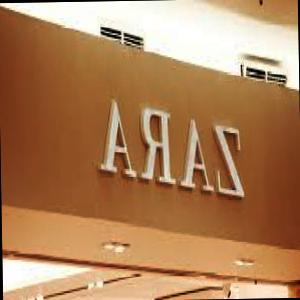zara: (89, 92, 247, 200)
